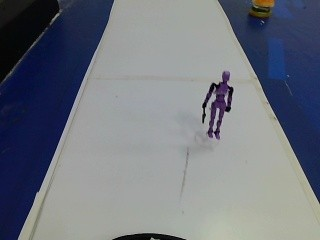burger: (247, 0, 278, 22)
pedestrian: (194, 66, 237, 145)
